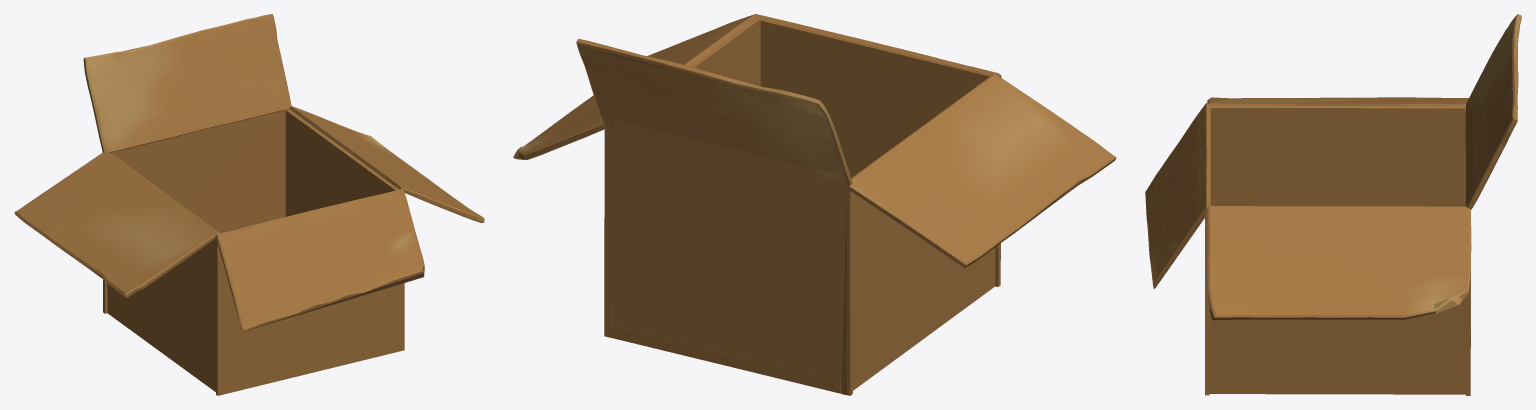
Rendered from cardboardbox.fbx.
3 views of the same model, side by side, from view 1: azimuth 30°, elevation 25°; view 2: azimuth 150°, elevation 25°; view 3: azimuth 270°, elevation 25° (orthographic). The views are drawn at different scales.
Parts seen in each view (by area): view 1: cardboard_box_1; view 2: cardboard_box_1; view 3: cardboard_box_1.
Boxes of the visible parts, x1=… form: cardboard_box_1: x1=14, y1=14, x2=484, y2=395; cardboard_box_1: x1=513, y1=14, x2=1116, y2=395; cardboard_box_1: x1=1145, y1=14, x2=1521, y2=395.
Bounding box in the file's own units: 3.88 × 2.46 × 3.02.
